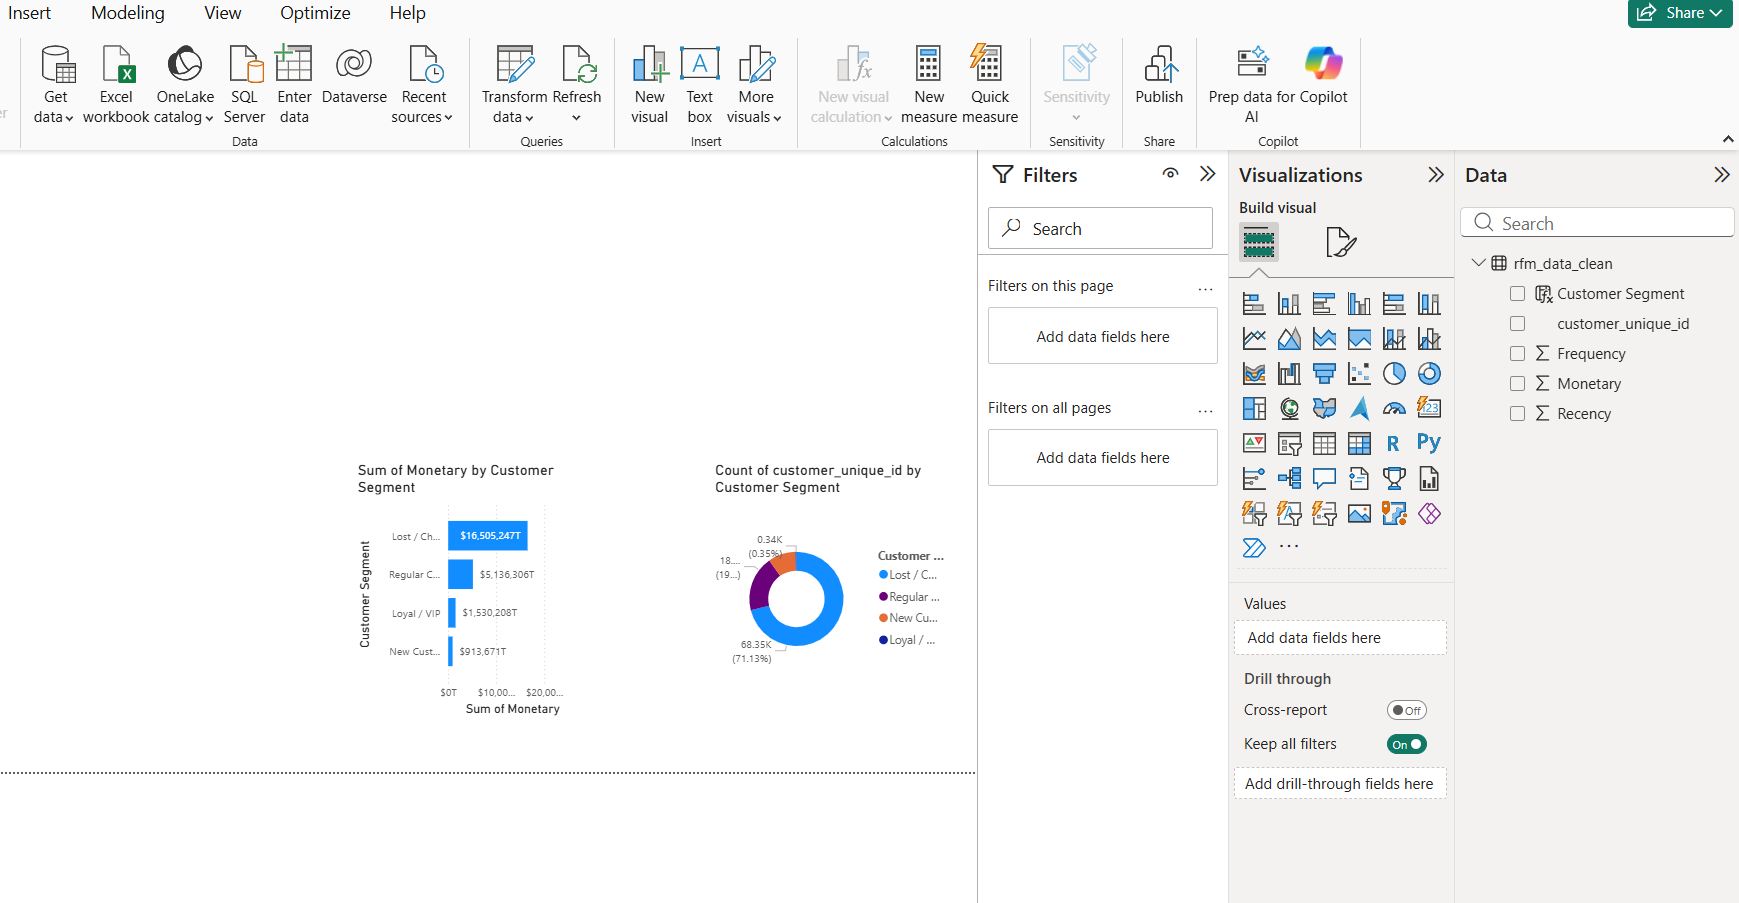

The page's visual inventory and layout, read from the dashboard file:
{"tool":"powerbi","page":{"name":"Page 1","canvas":[1280,720],"ordinal":0},"visuals":[{"type":"donutChart","fields":{"Category":["rfm_data_clean.Customer Segment"],"Y":["CountNonNull(rfm_data_clean.customer_unique_id)"]},"box":[972.2,360.2,279.2,280.7],"z":0},{"type":"clusteredBarChart","fields":{"Category":["rfm_data_clean.Customer Segment"],"Y":["Sum(rfm_data_clean.Monetary)"]},"box":[558.4,360.2,299.5,299.5],"z":1000}]}

Visuals, with their boxes on the page's 1280x720 design canvas (x1, y1, x2, y2). These are canvas units, not pixel positions in the 1739x903 screenshot, which may show the page scaled, cropped or inside an application window:
donutChart - rfm_data_clean.Customer Segment x CountNonNull(rfm_data_clean.customer_unique_id): (left=972, top=360, right=1251, bottom=641)
clusteredBarChart - rfm_data_clean.Customer Segment x Sum(rfm_data_clean.Monetary): (left=558, top=360, right=858, bottom=660)
